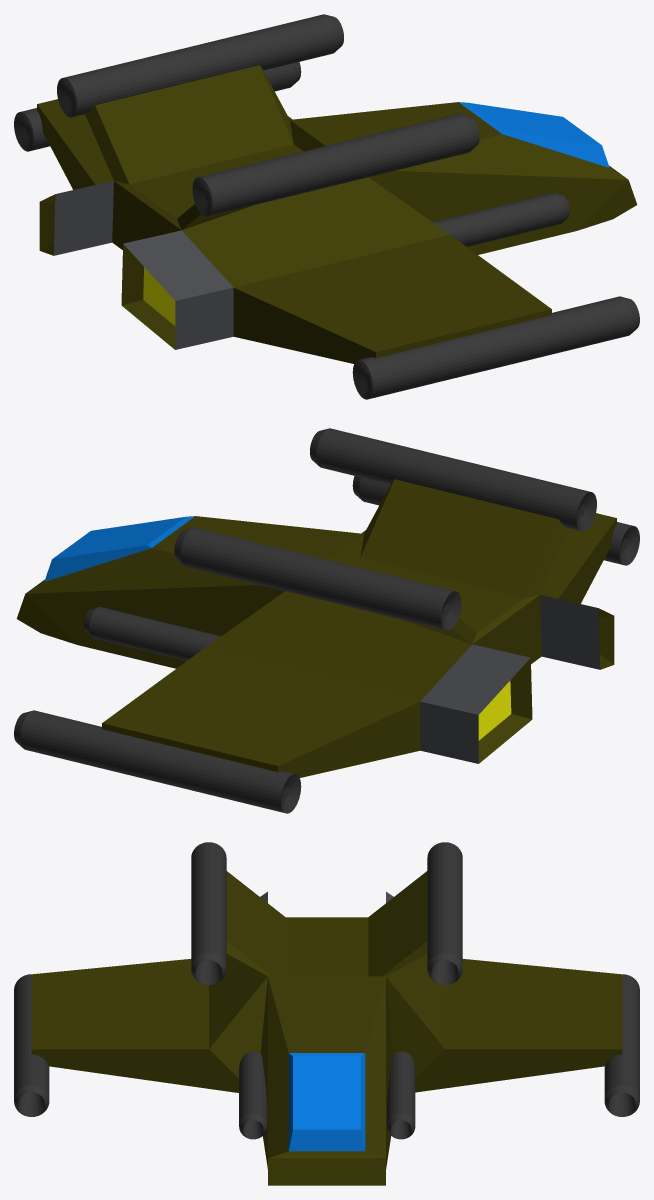
The model's file is fighterjet_spaceship.fbx.
3 renders of one model, top to bottom at view 1: azimuth 30°, elevation 25°; view 2: azimuth 150°, elevation 25°; view 3: azimuth 270°, elevation 25°, orthographic. The views are drawn at different scales.
Parts seen in each view (by area): view 1: Cube, Cylinder.005, Cylinder.006, Cylinder.004, Cylinder.002, Cylinder.000; view 2: Cube, Cylinder.004, Cylinder.000, Cylinder.005, Cylinder.003, Cylinder.006; view 3: Cube, Cylinder.005, Cylinder.004, Cylinder.000, Cylinder.006, Cylinder.003, Cylinder.002.
Part boxes in pixels (<box>): Cube: <box>37,65,637,363</box>; Cylinder.005: <box>192,113,479,216</box>; Cylinder.006: <box>352,296,639,399</box>; Cylinder.004: <box>57,14,343,117</box>; Cylinder.002: <box>432,192,569,246</box>; Cylinder.000: <box>14,62,301,151</box>; Cube: <box>16,479,616,777</box>; Cylinder.004: <box>174,527,461,630</box>; Cylinder.000: <box>14,710,301,813</box>; Cylinder.005: <box>310,428,596,531</box>; Cylinder.003: <box>84,607,220,660</box>; Cylinder.006: <box>352,476,639,565</box>; Cube: <box>31,871,622,1185</box>; Cylinder.005: <box>191,842,226,984</box>; Cylinder.004: <box>427,842,462,984</box>; Cylinder.000: <box>604,974,639,1116</box>; Cylinder.006: <box>14,974,49,1116</box>; Cylinder.003: <box>387,1051,415,1139</box>; Cylinder.002: <box>239,1051,267,1139</box>.
Bounding box in the file's own units: 879 × 288 × 1060.
